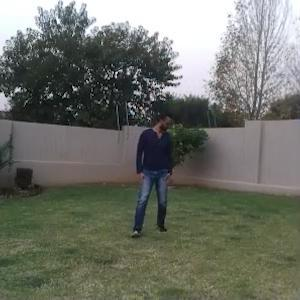follow: (135, 105, 172, 230)
